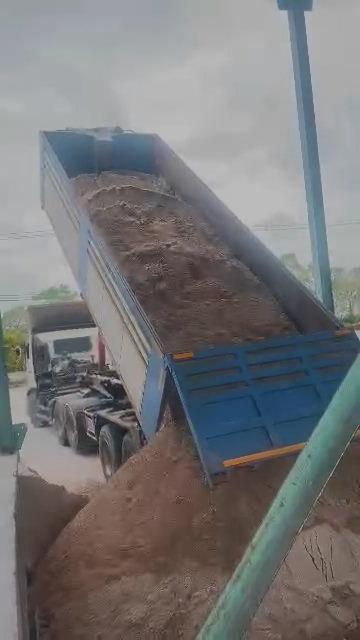sand: (32, 394, 291, 639), (74, 173, 296, 351), (251, 449, 360, 639), (17, 465, 87, 577)
